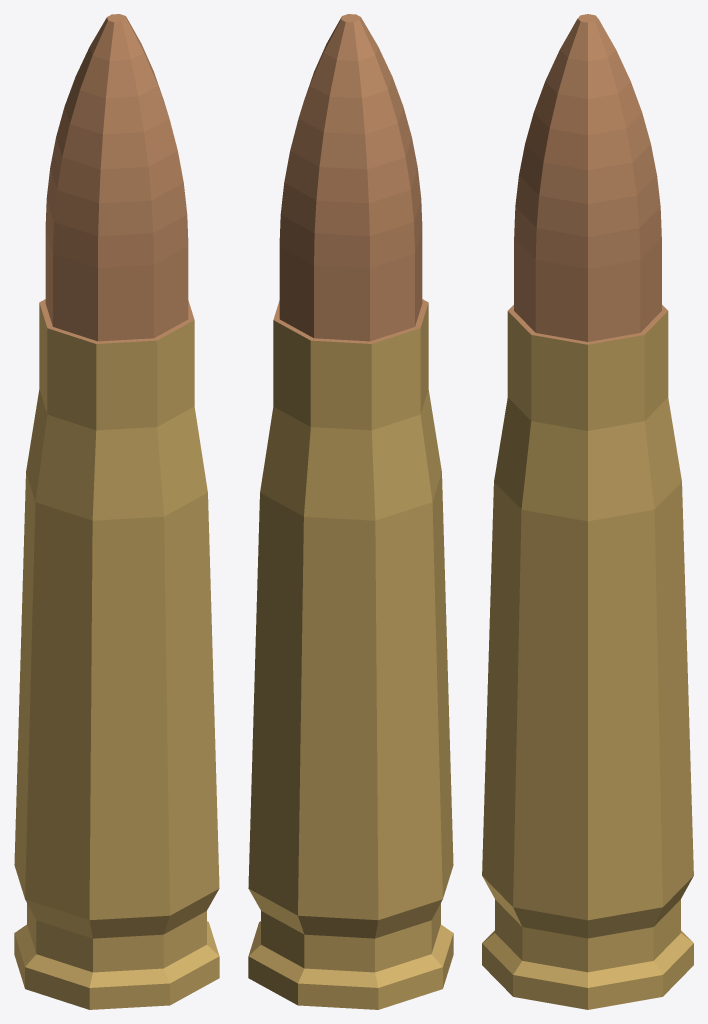
File: round_762x39.glb
The picture shows the model from 3 angles, left to right: view 1: azimuth 30°, elevation 25°; view 2: azimuth 150°, elevation 25°; view 3: azimuth 270°, elevation 25°; orthographic projection.
Visible parts, largest first — view 1: round_762x39; view 2: round_762x39; view 3: round_762x39.
Part boxes in pixels (x1=…): round_762x39: x1=14, y1=14, x2=219, y2=1009; round_762x39: x1=248, y1=14, x2=453, y2=1009; round_762x39: x1=482, y1=14, x2=693, y2=1009.
Bounding box in the file's own units: 0.0114 × 0.056 × 0.0114.
